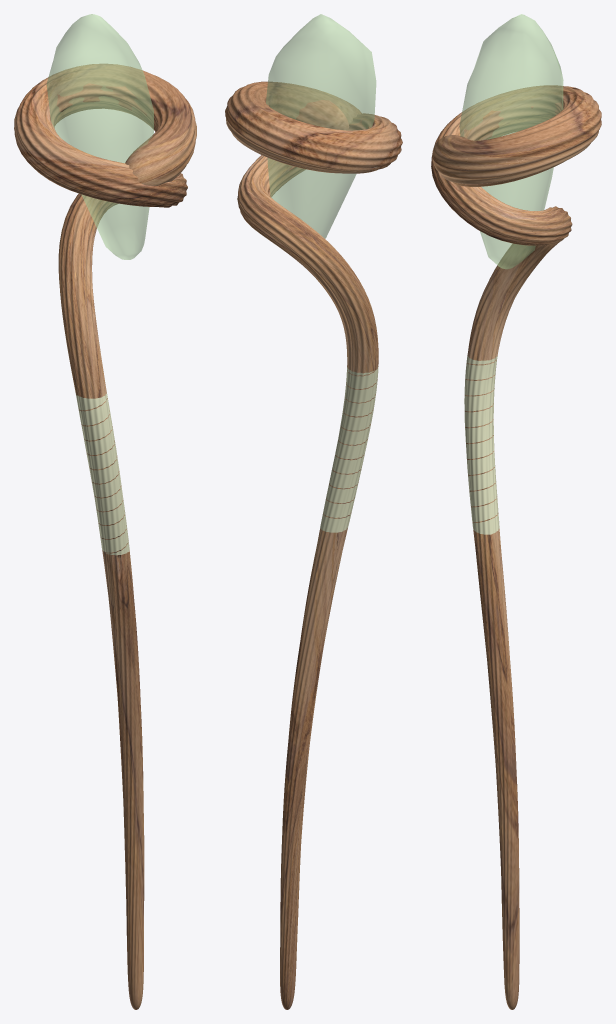
Rendered from StaffTest.glb.
3 renders of one model, left to right at view 1: azimuth 30°, elevation 25°; view 2: azimuth 150°, elevation 25°; view 3: azimuth 270°, elevation 25°, orthographic. The views are drawn at different scales.
Visible parts, largest first — view 1: Staff_HiPoly; view 2: Staff_HiPoly; view 3: Staff_HiPoly.
Part boxes in pixels (x1=…): Staff_HiPoly: x1=14, y1=14, x2=196, y2=1009; Staff_HiPoly: x1=225, y1=14, x2=402, y2=1009; Staff_HiPoly: x1=431, y1=14, x2=601, y2=1009.
Size of the model in its own units: 0.9229 by 5.6 by 0.888.
3 materials, 1 textured.
